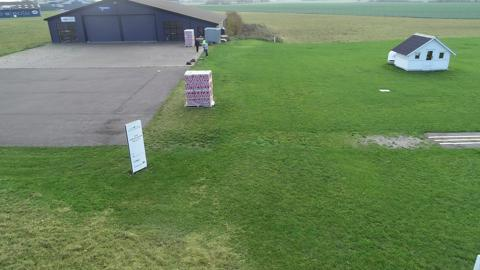RockwoolPallet: (183, 28, 196, 49)
